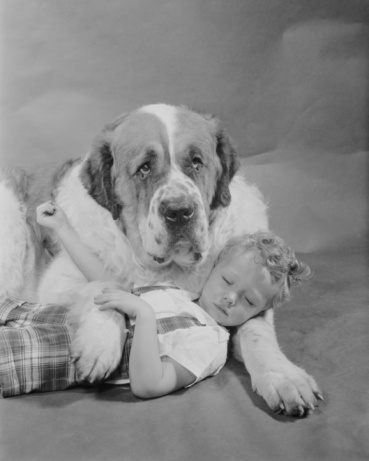deitado: (0, 195, 329, 429)
